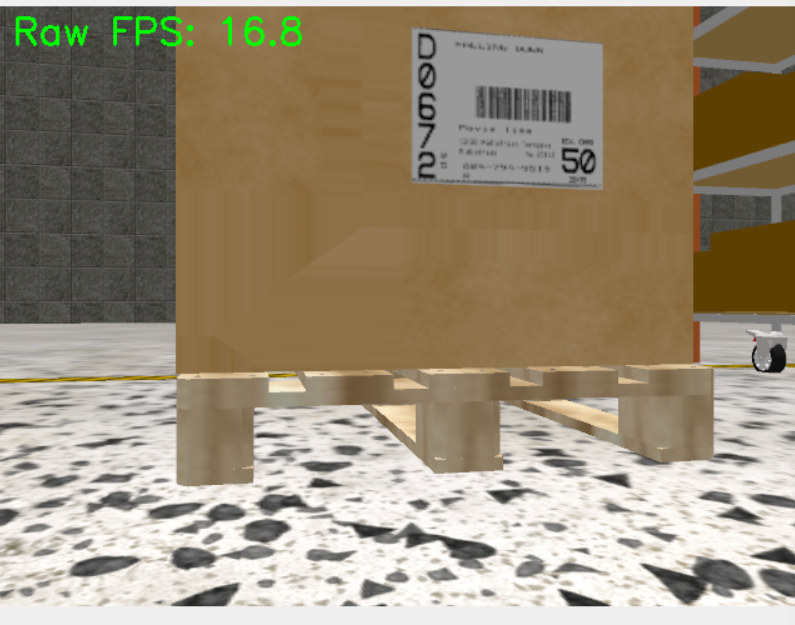barcode: (410, 28, 605, 192)
